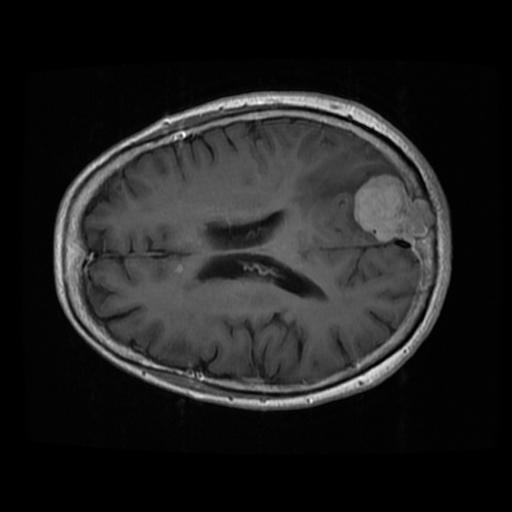meningioma: (351, 176, 434, 241)
